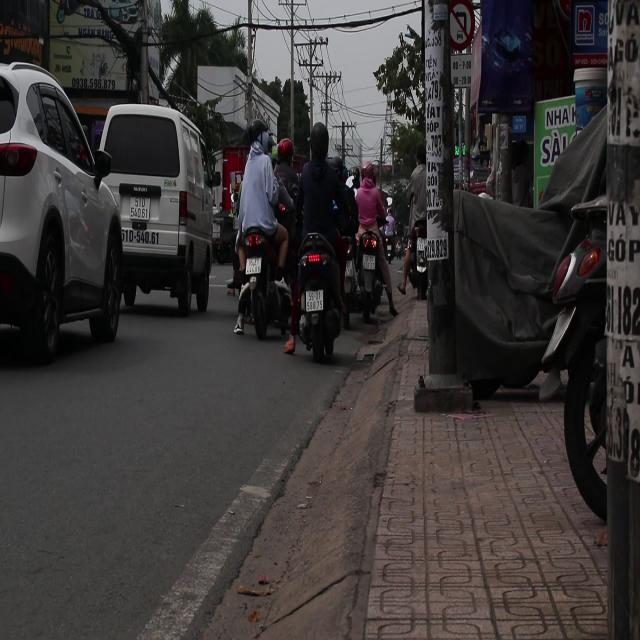car: (0, 56, 127, 367), (94, 103, 219, 320)
motorbike: (289, 233, 348, 364), (232, 222, 292, 342), (342, 218, 400, 327)
